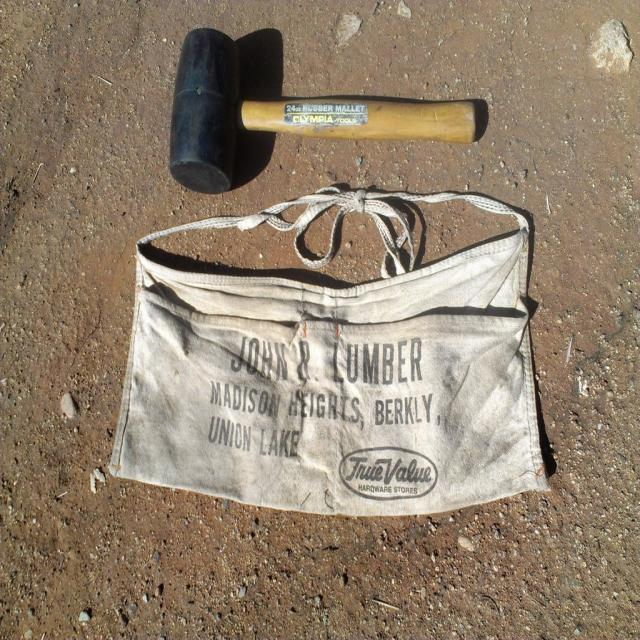hammer: (171, 28, 478, 194)
